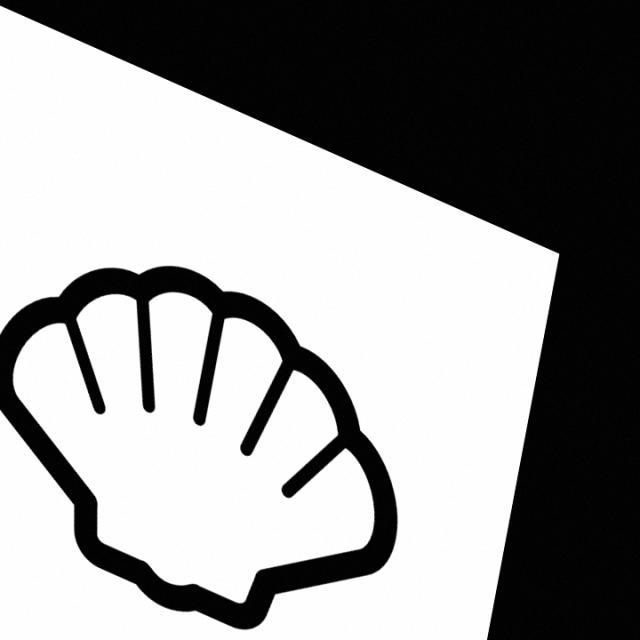shell: (1, 253, 409, 640)
